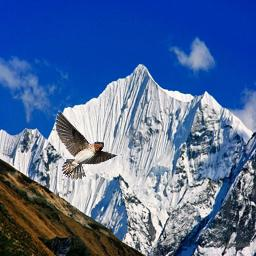Swallow: (54, 110, 124, 181)
